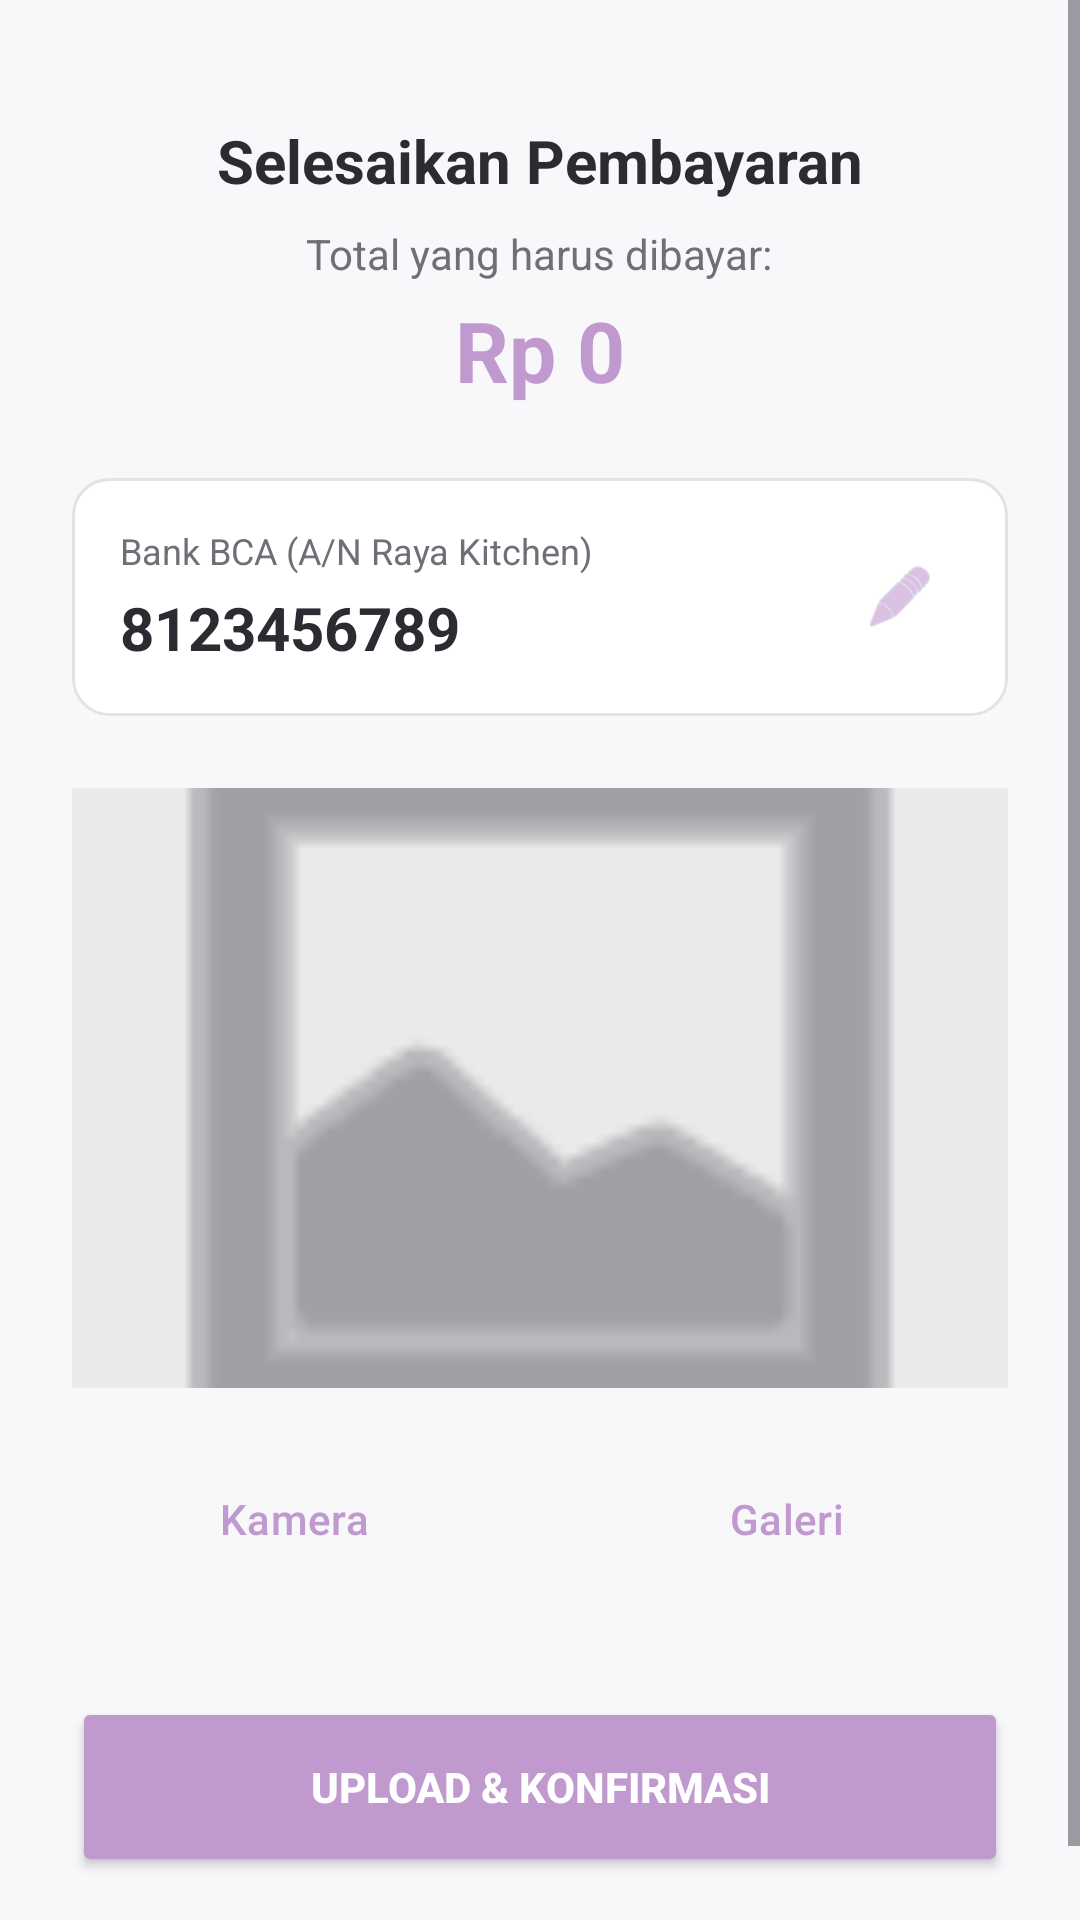

Screen size 1080px×1920px. Icon name, then its box in pixels as (x1, y1, x2, y2):
edit: (870, 566, 930, 627)
